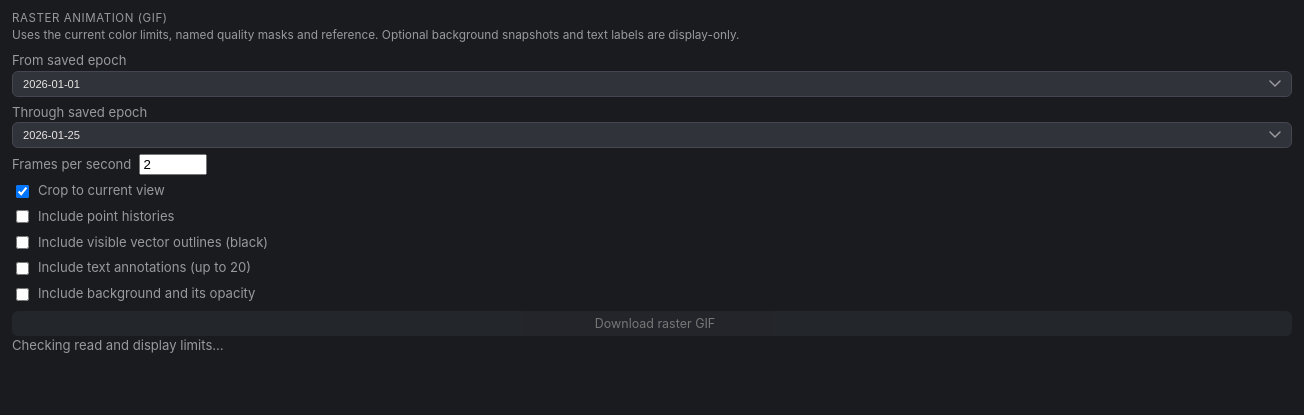
Scenario: vector outline limits › shows the reason from a validation list returned by the plan
The width and height of the screenshot is (1304, 415).
Step 1. Click the checkbox named "Include vector outlines in GIF" → click(22, 243), box [16,236,29,249]
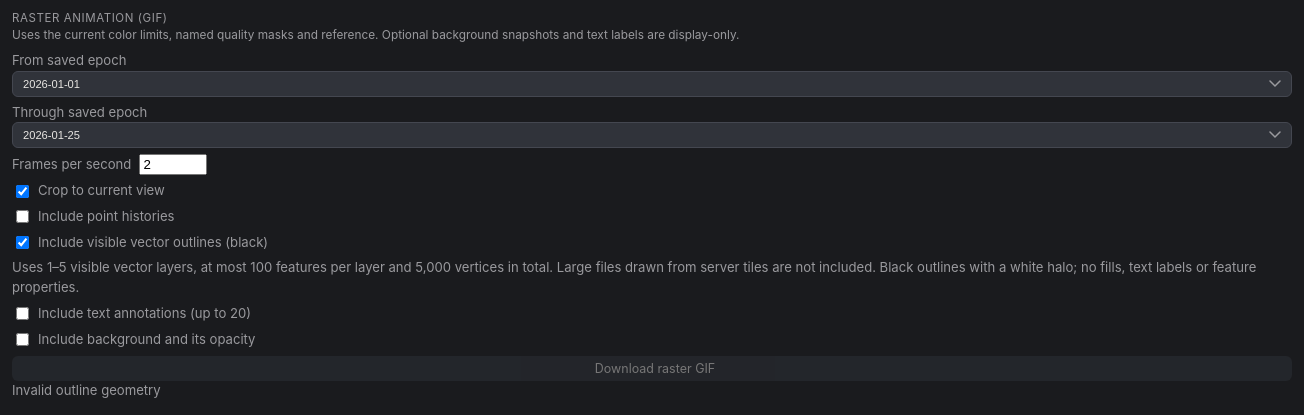
Now the message reads "Invalid outline geometry", box [12,382,161,398]
